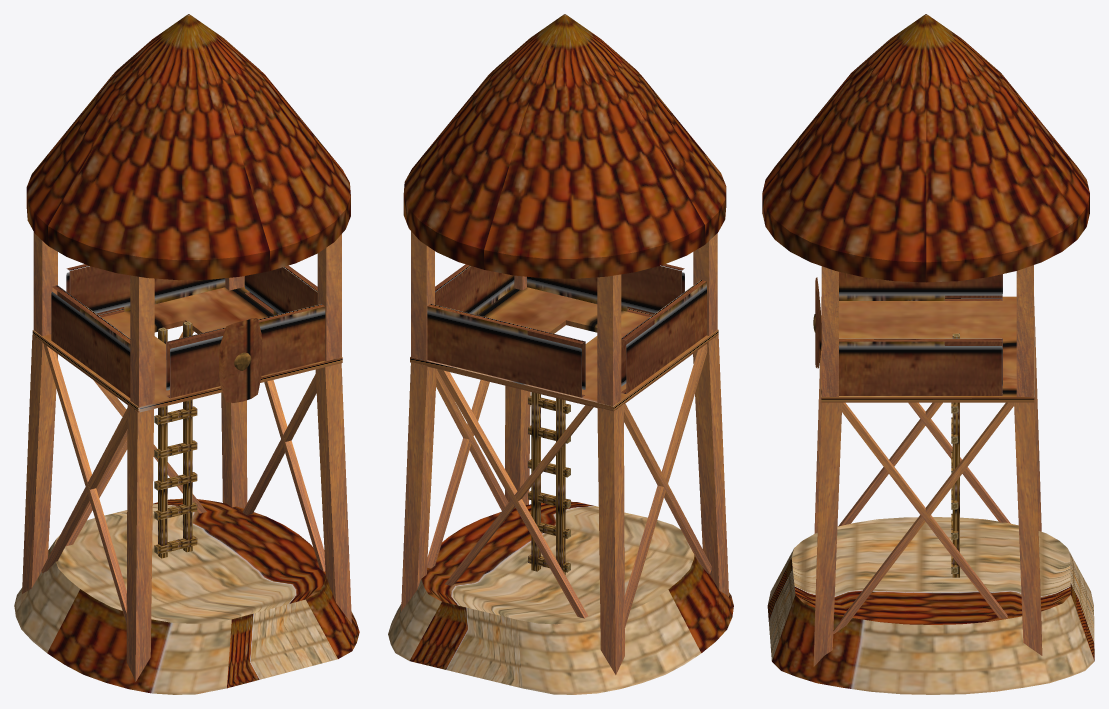
File: sentry_tower.dae
3 renders of one model, left to right at view 1: azimuth 30°, elevation 25°; view 2: azimuth 150°, elevation 25°; view 3: azimuth 270°, elevation 25°, orthographic.
Parts seen in each view (by area): view 1: sentry_tower; view 2: sentry_tower; view 3: sentry_tower.
Boxes of the visible parts, bbox=[...] form: sentry_tower: bbox=[14, 14, 359, 694]; sentry_tower: bbox=[388, 14, 733, 694]; sentry_tower: bbox=[762, 14, 1094, 694].
Size of the model in its own units: 9.14 by 9.27 by 18.83.
